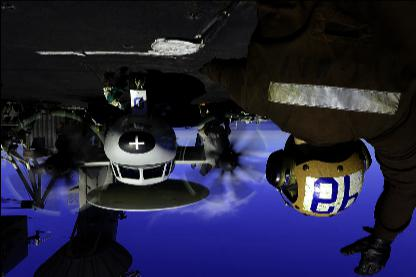C5: (1, 71, 268, 216)
